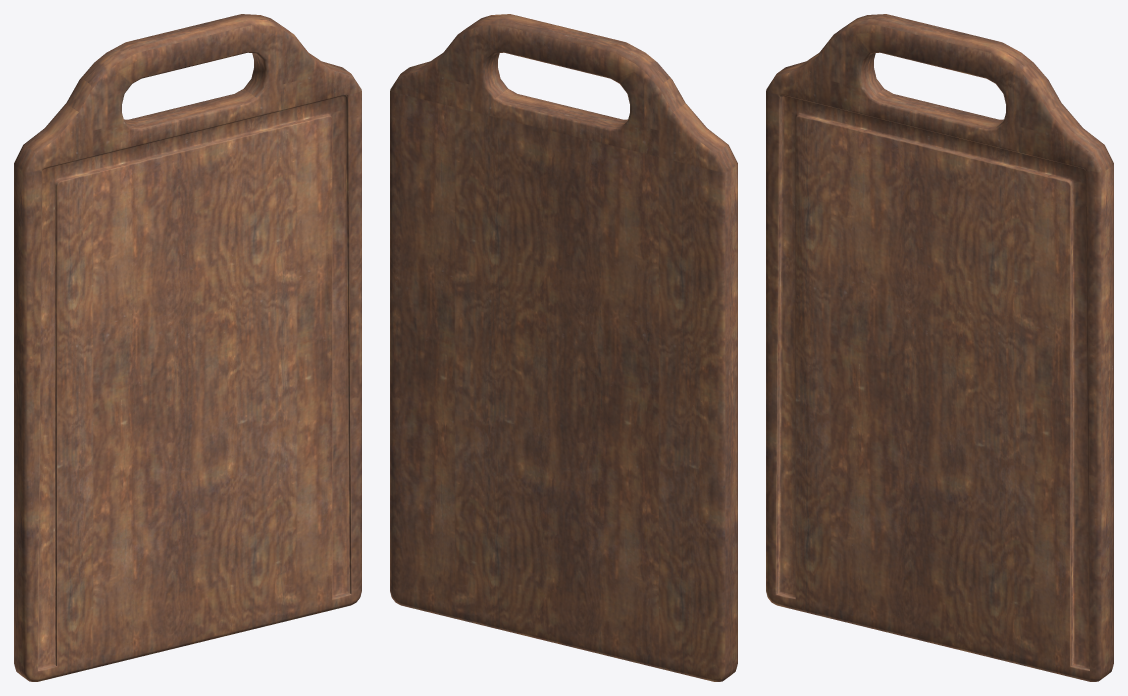
The model's file is simple_cutting_board.glb.
3 views of the same model, side by side, from view 1: azimuth 30°, elevation 25°; view 2: azimuth 150°, elevation 25°; view 3: azimuth 330°, elevation 25° (orthographic).
Visible parts, largest first — view 1: Object_2; view 2: Object_2; view 3: Object_2.
Part boxes in pixels (x1=…): Object_2: x1=14, y1=14, x2=361, y2=681; Object_2: x1=390, y1=14, x2=737, y2=681; Object_2: x1=766, y1=14, x2=1113, y2=681.
Size of the model in its own units: 3.66 by 6.31 by 0.2676.
Materials: 1 (1 with a texture image).
